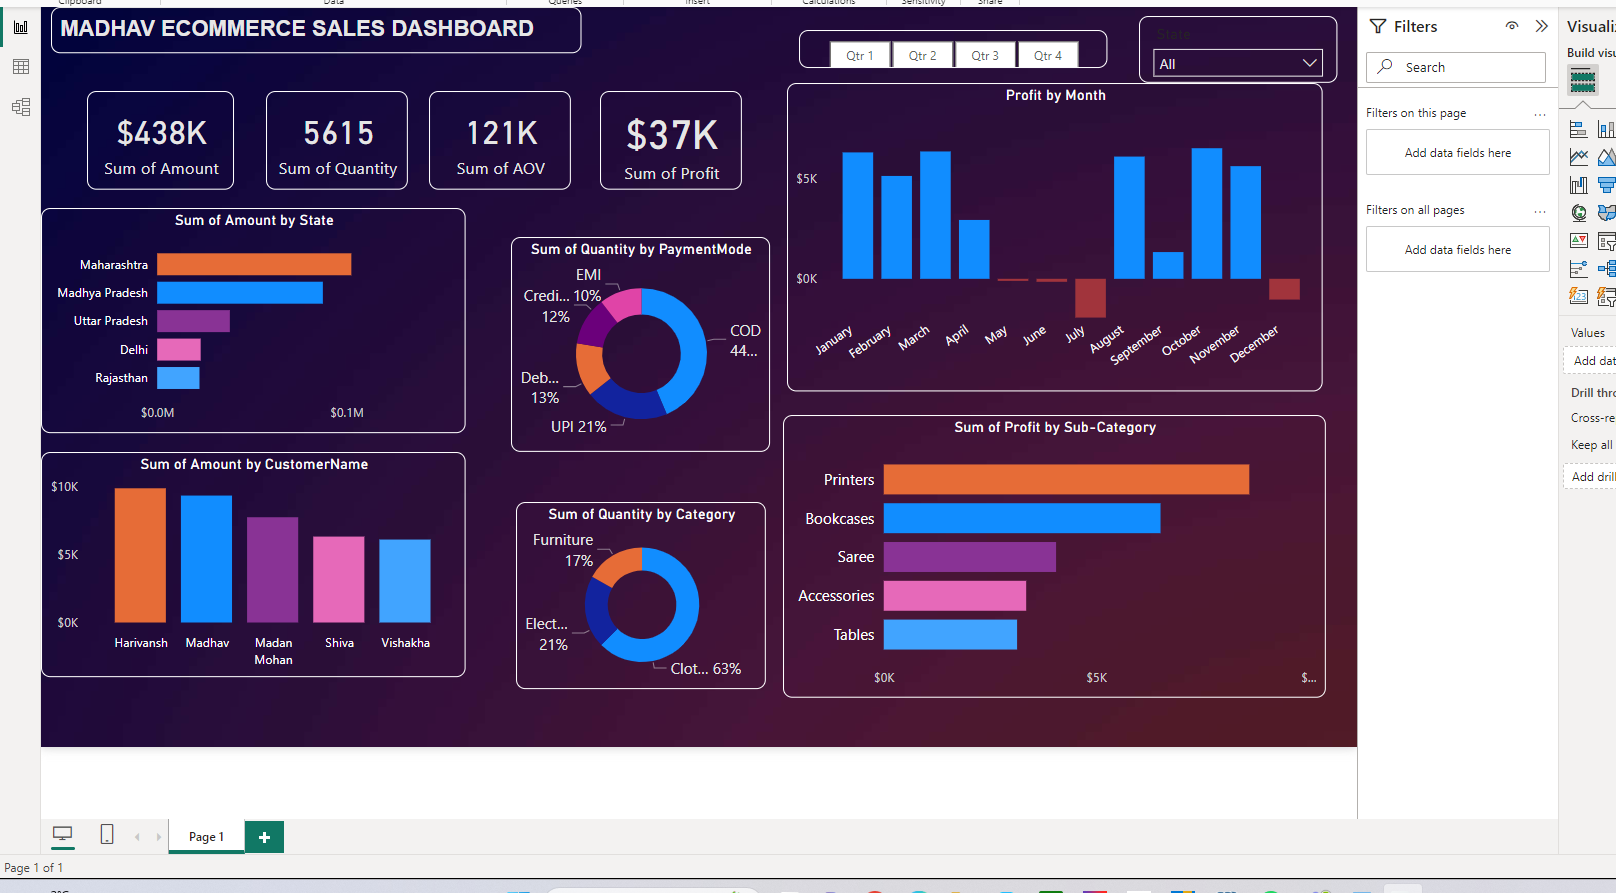

The dashboard page shown, as its layout file describes it:
{"tool":"powerbi","page":{"name":"Page 1","canvas":[1280,720],"ordinal":0},"visuals":[{"type":"textbox","box":[9.7,0,516.5,44.7],"z":0},{"type":"columnChart","title":"Profit by Month","fields":{"Category":["Orders.Order Date.Variation.Date Hierarchy.Month"],"Y":["Details.Profit"]},"box":[725.6,73.9,521.3,299.6],"z":1000},{"type":"barChart","fields":{"Category":["Details.Sub-Category"],"Y":["Details.Profit"]},"box":[721.7,396.8,528.1,275.3],"z":1001},{"type":"donutChart","fields":{"Category":["Details.Category"],"Y":["Details.Quantity"]},"box":[462,481.5,243.2,181.9],"z":1002},{"type":"donutChart","fields":{"Category":["Details.PaymentMode"],"Y":["Details.Quantity"]},"box":[457.1,223.7,251.9,209.1],"z":1003},{"type":"card","fields":{"Values":["Details.Amount"]},"box":[44.7,81.7,143,96.3],"z":1004},{"type":"card","fields":{"Values":["Details.Quantity"]},"box":[218.8,81.7,138.1,96.3],"z":1005},{"type":"card","fields":{"Values":["Details.Profit"]},"box":[543.7,81.7,138.1,96.3],"z":1006},{"type":"card","fields":{"Values":["Details.AOV"]},"box":[377.4,81.7,138.1,96.3],"z":1007},{"type":"barChart","fields":{"Category":["Orders.State"],"Y":["Details.Amount"]},"box":[0,195.5,413.4,218.8],"z":1008},{"type":"columnChart","fields":{"Category":["Orders.CustomerName"],"Y":["Details.Amount"]},"box":[0,432.8,413.4,218.8],"z":1009},{"type":"slicer","fields":{"Values":["Orders.Order Date.Variation.Date Hierarchy.Quarter"]},"box":[737.3,22.4,299.6,37],"z":1010},{"type":"slicer","fields":{"Values":["Orders.State"]},"box":[1068,8.8,192.6,65.2],"z":1011}]}

Visuals, with their boxes on the page's 1280x720 design canvas (x1, y1, x2, y2). These are canvas units, not pixel positions in the 1616x893 screenshot, which may show the page scaled, cropped or inside an application window:
textbox: x1=10 y1=0 x2=526 y2=45
"Profit by Month" columnChart: x1=726 y1=74 x2=1247 y2=374
barChart - Details.Sub-Category x Details.Profit: x1=722 y1=397 x2=1250 y2=672
donutChart - Details.Category x Details.Quantity: x1=462 y1=482 x2=705 y2=663
donutChart - Details.PaymentMode x Details.Quantity: x1=457 y1=224 x2=709 y2=433
card - Details.Amount: x1=45 y1=82 x2=188 y2=178
card - Details.Quantity: x1=219 y1=82 x2=357 y2=178
card - Details.Profit: x1=544 y1=82 x2=682 y2=178
card - Details.AOV: x1=377 y1=82 x2=516 y2=178
barChart - Orders.State x Details.Amount: x1=0 y1=196 x2=413 y2=414
columnChart - Orders.CustomerName x Details.Amount: x1=0 y1=433 x2=413 y2=652
slicer - Orders.Order Date.Variation.Date Hierarchy.Quarter: x1=737 y1=22 x2=1037 y2=59
slicer - Orders.State: x1=1068 y1=9 x2=1261 y2=74
